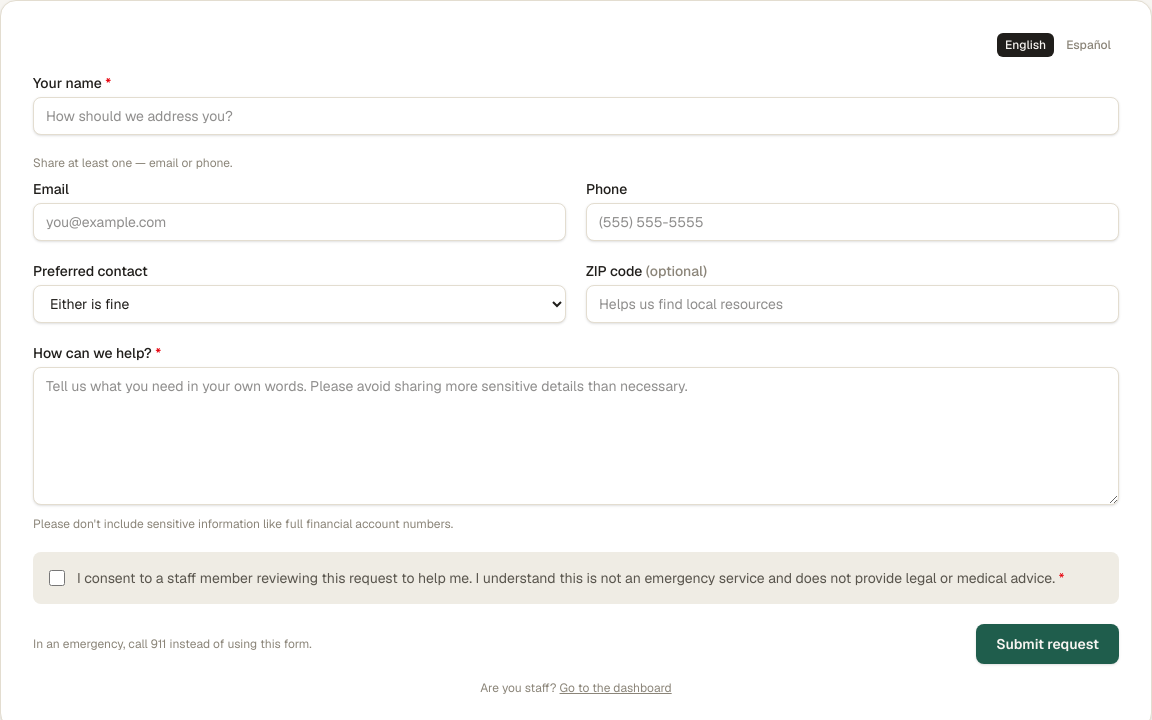
Test: IntakeForm › switches the form to Spanish and includes the locale in the submission
The width and height of the screenshot is (1152, 720).
Click the button "Español".
click(1089, 45)  # box top-left (1058, 33), bottom-right (1119, 57)
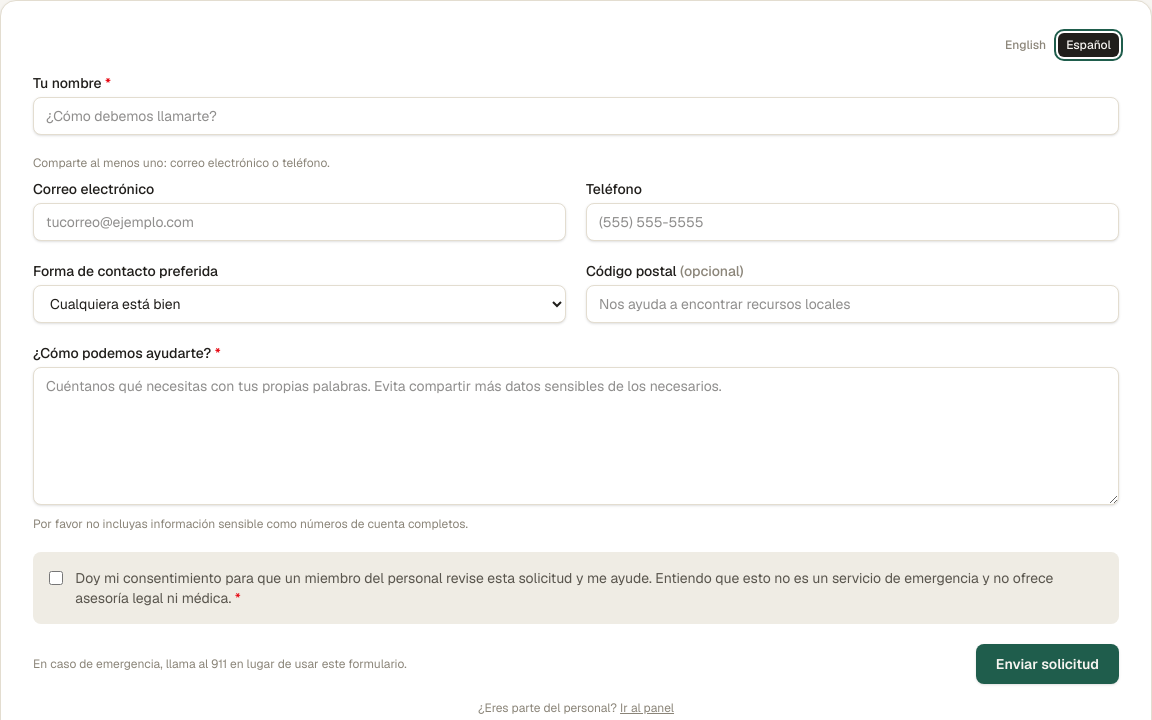
Result: the text "¿Cómo podemos ayudarte?" is shown at top-left (33, 344), bottom-right (211, 362)
Type "Jordan Rivera" into the field labelled "Tu nombre *".
click(576, 116); type("Jordan Rivera")  # box top-left (33, 97), bottom-right (1119, 135)
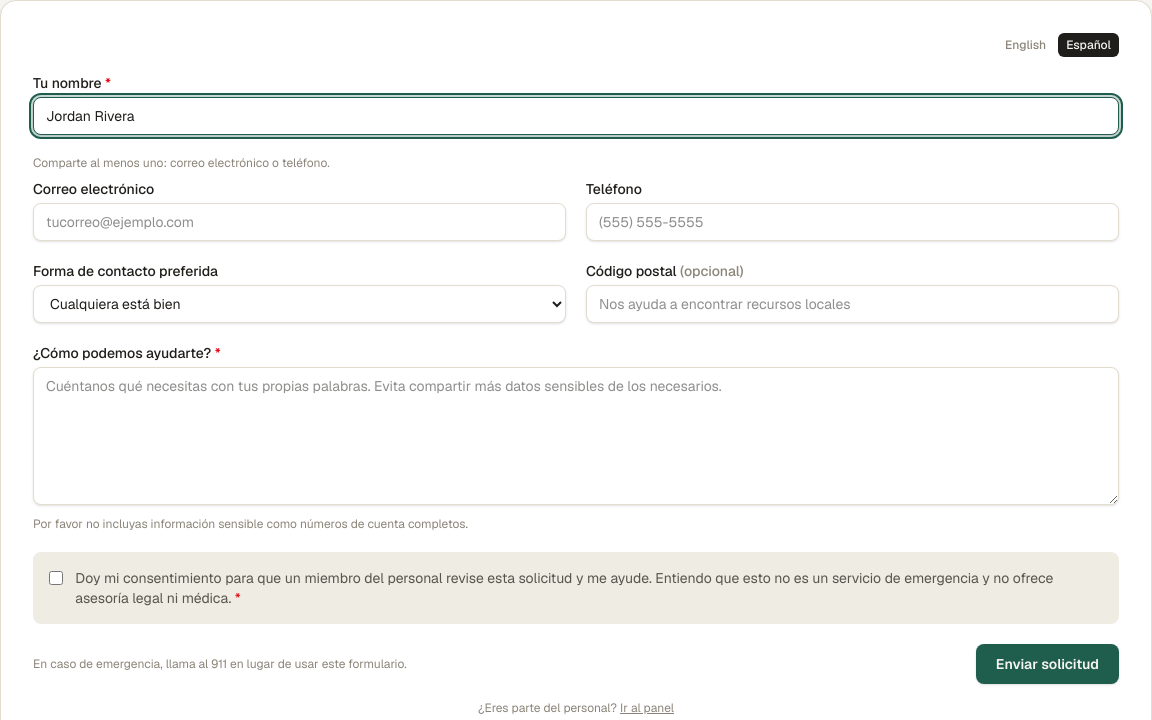
Type "jordan@example.com" into the field labelled "Correo electrónico".
click(300, 222); type("jordan@example.com")  # box top-left (33, 203), bottom-right (566, 241)
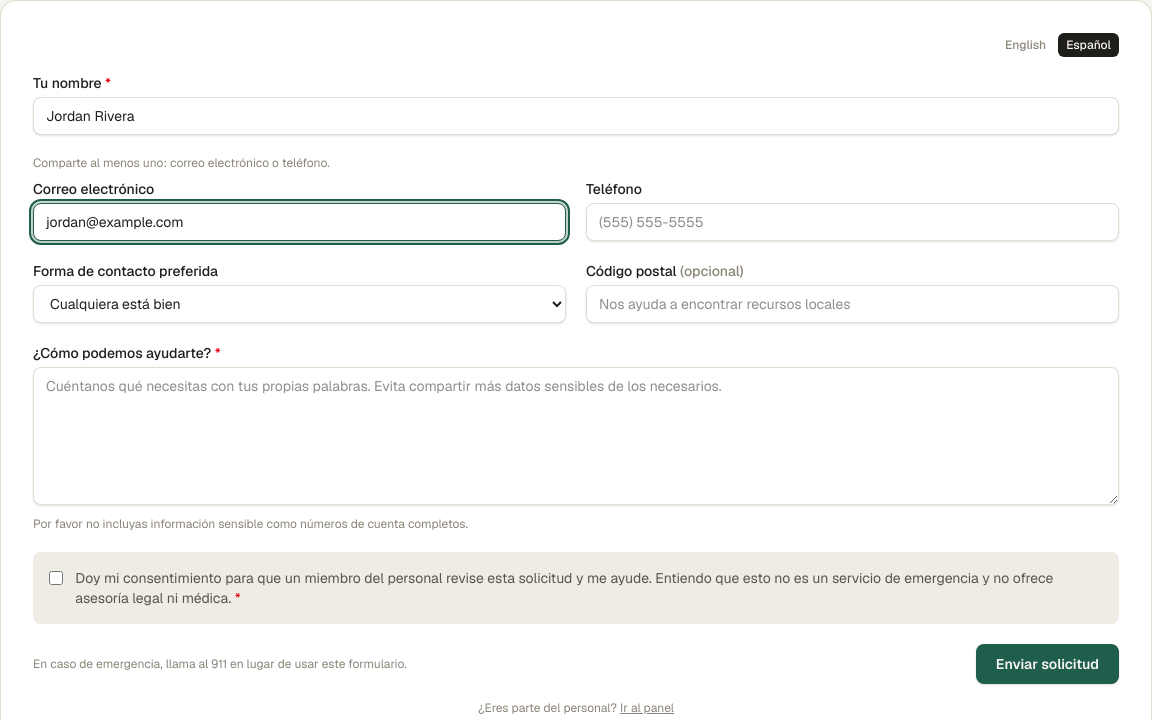
Type "Busco ayuda para encontrar un banco de alimentos." into the text box labelled "¿Cómo podemos ayudarte? *".
click(576, 436); type("Busco ayuda para encontrar un banco de alimentos.")  # box top-left (33, 367), bottom-right (1119, 505)
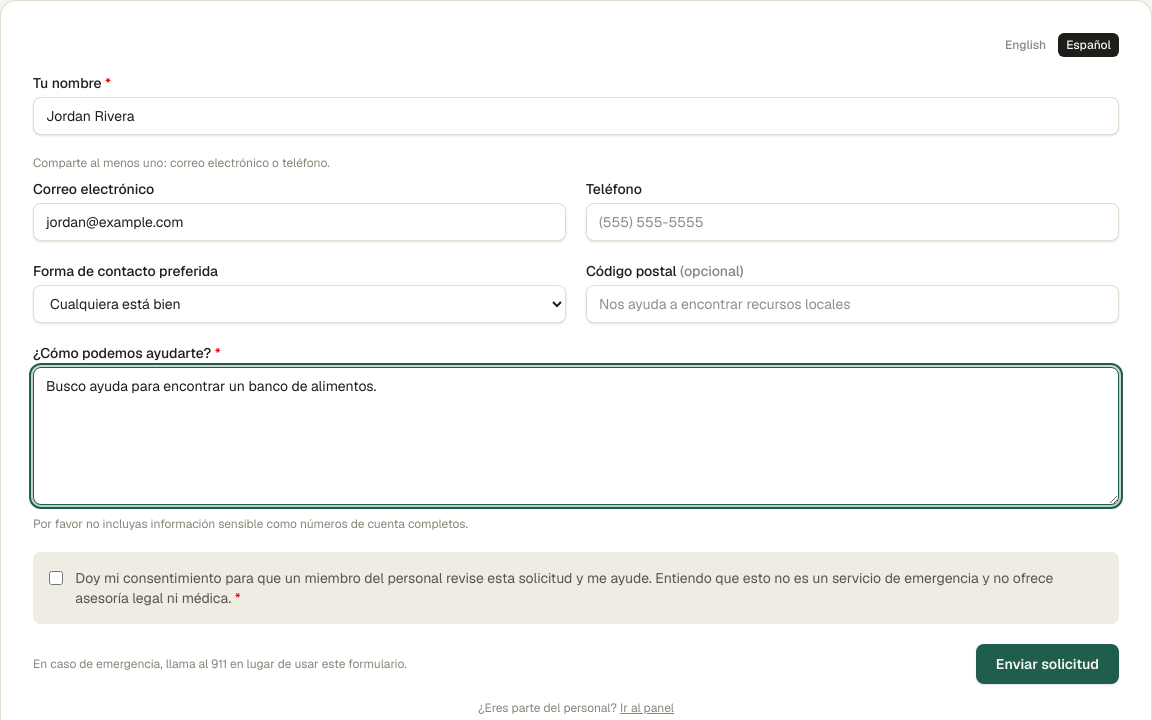
Click the checkbox labelled "Doy mi consentimiento".
click(56, 578)  # box top-left (49, 570), bottom-right (63, 586)
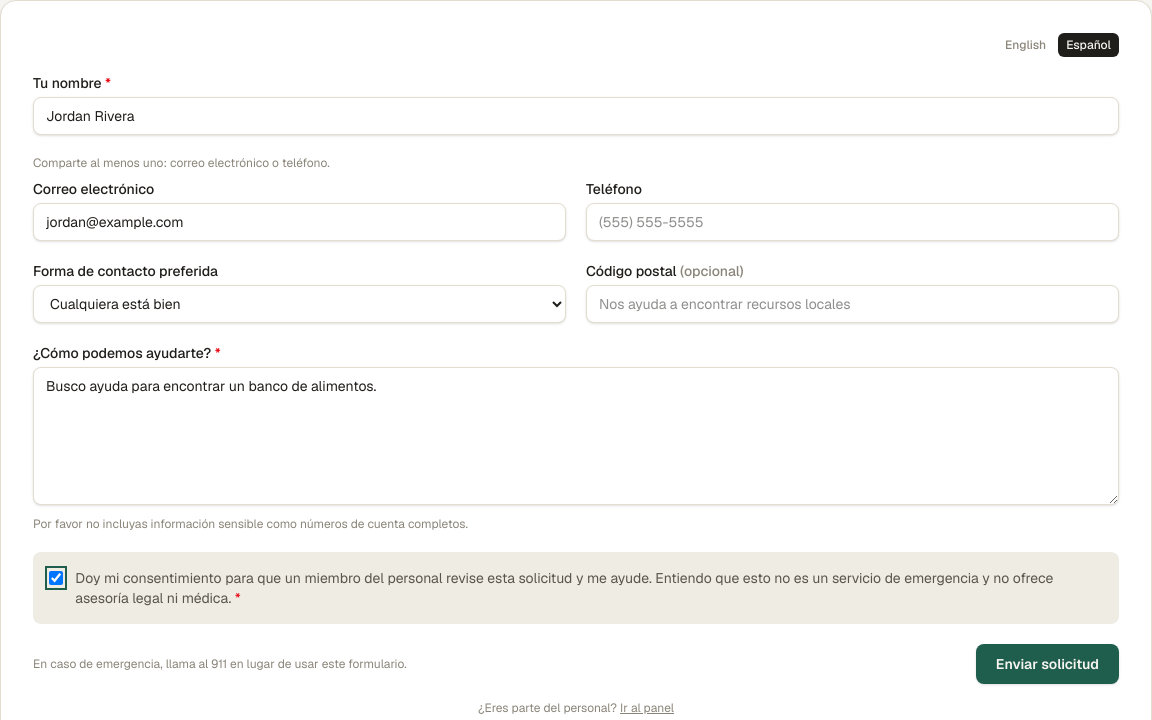
Click the button "Enviar solicitud".
click(1047, 664)  # box top-left (976, 644), bottom-right (1119, 684)
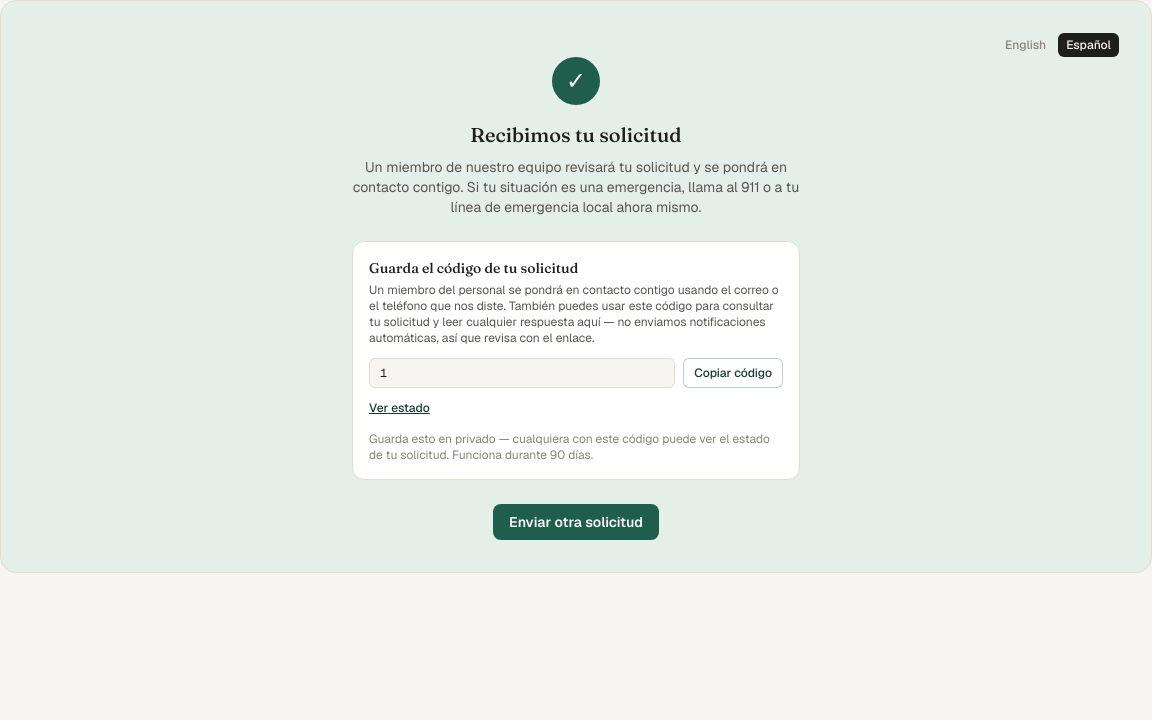
Result: the heading "Recibimos tu solicitud" is shown at top-left (470, 122), bottom-right (682, 147)
